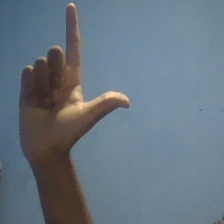L: (15, 1, 132, 162)
